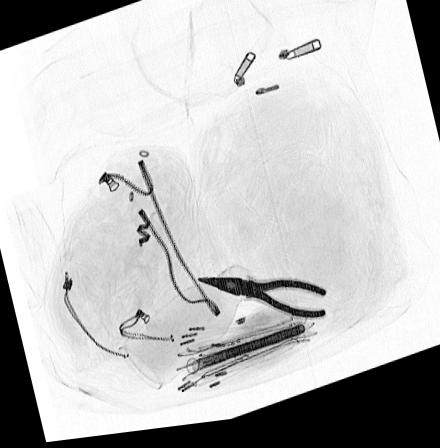Pliers: (195, 278, 327, 328)
